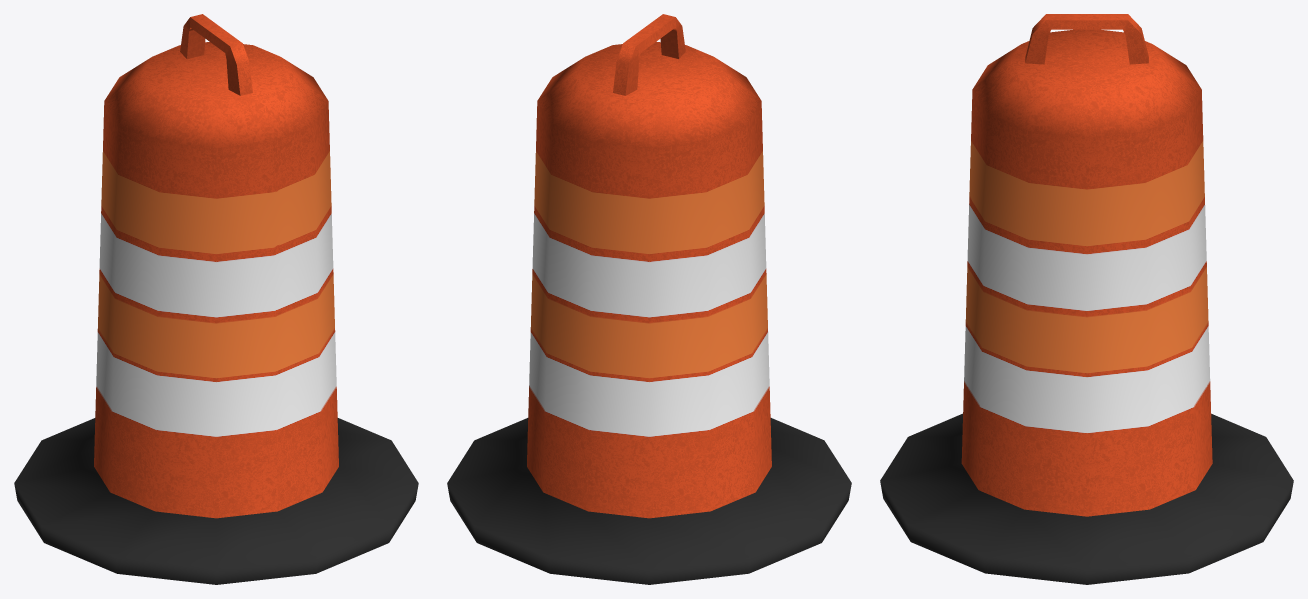
Rendered from trafficCone1.glb.
The picture shows the model from 3 angles, left to right: view 1: azimuth 30°, elevation 25°; view 2: azimuth 150°, elevation 25°; view 3: azimuth 270°, elevation 25°; orthographic projection. The views are drawn at different scales.
Visible parts, largest first — view 1: SM_TrafficCones_01; view 2: SM_TrafficCones_01; view 3: SM_TrafficCones_01.
Part boxes in pixels (x1,y1,x2,y2): SM_TrafficCones_01: [14, 14, 418, 584]; SM_TrafficCones_01: [447, 14, 851, 584]; SM_TrafficCones_01: [880, 14, 1293, 584].
Size of the model in its own units: 0.8828 by 1.13 by 0.8822.
1 material, 1 textured.
